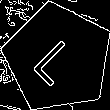L_NE: (29, 29, 87, 87)
